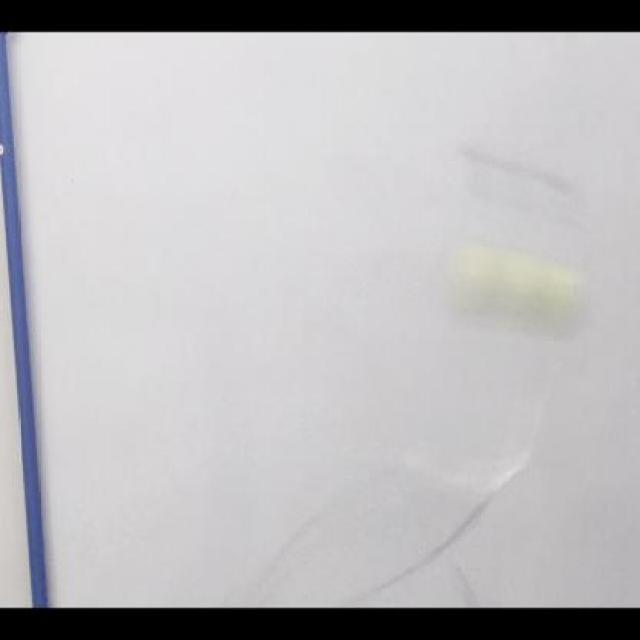baseball: (446, 247, 592, 341)
